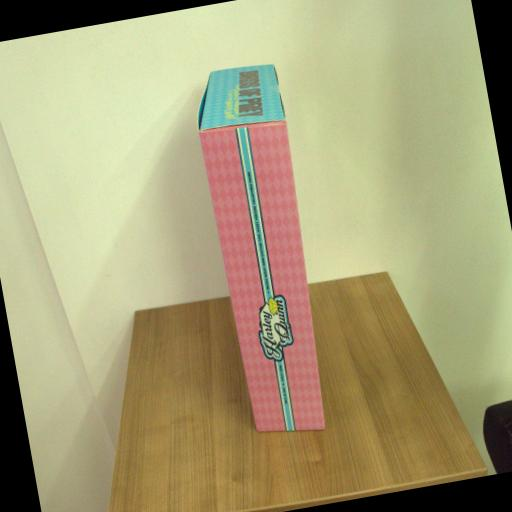Harley: (188, 58, 342, 444)
